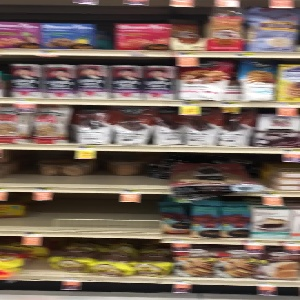void: (1, 148, 165, 188), (1, 193, 161, 231)
